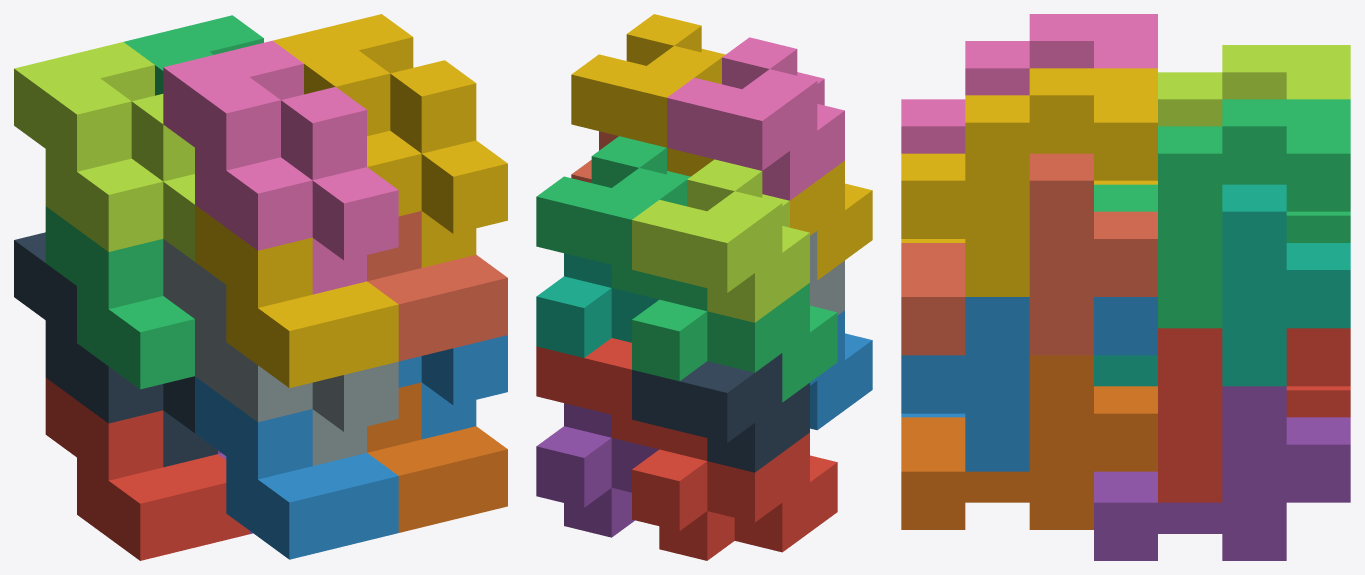
The model's file is tiling.obj.
3 views of the same model, side by side, from view 1: azimuth 30°, elevation 25°; view 2: azimuth 150°, elevation 25°; view 3: azimuth 270°, elevation 25° (orthographic). The views are drawn at different scales.
Visible parts, largest first — view 1: copy_2_domain_4, copy_2_domain_3, copy_2_domain_8, copy_1_domain_4, copy_1_domain_2, copy_1_domain_1, copy_2_domain_2, copy_1_domain_3, copy_2_domain_1, copy_1_domain_6, copy_1_domain_8, copy_2_domain_6 (+1 smaller); view 2: copy_2_domain_3, copy_1_domain_1, copy_2_domain_4, copy_1_domain_3, copy_2_domain_1, copy_2_domain_7, copy_2_domain_8, copy_1_domain_5, copy_1_domain_7, copy_2_domain_5, copy_1_domain_4, copy_1_domain_2 (+2 smaller); view 3: copy_2_domain_8, copy_2_domain_7, copy_1_domain_6, copy_1_domain_8, copy_1_domain_5, copy_1_domain_7, copy_2_domain_6, copy_2_domain_5, copy_2_domain_4, copy_2_domain_3, copy_1_domain_1, copy_1_domain_3 (+1 smaller).
Part boxes in pixels (left/top/right/bottom): copy_2_domain_4: left=163, top=40, right=398, bottom=294; copy_2_domain_3: left=14, top=42, right=194, bottom=261; copy_2_domain_8: left=273, top=14, right=507, bottom=267; copy_1_domain_4: left=195, top=205, right=398, bottom=388; copy_1_domain_2: left=195, top=376, right=398, bottom=559; copy_1_domain_1: left=45, top=378, right=249, bottom=560; copy_2_domain_2: left=163, top=239, right=398, bottom=465; copy_1_domain_3: left=45, top=206, right=194, bottom=389; copy_2_domain_1: left=14, top=232, right=217, bottom=467; copy_1_domain_6: left=367, top=382, right=507, bottom=532; copy_1_domain_8: left=367, top=211, right=507, bottom=361; copy_2_domain_6: left=398, top=335, right=507, bottom=439; copy_2_domain_3: left=632, top=159, right=809, bottom=322; copy_1_domain_1: left=632, top=426, right=837, bottom=560; copy_2_domain_4: left=667, top=37, right=844, bottom=200; copy_1_domain_3: left=632, top=276, right=837, bottom=402; copy_2_domain_1: left=632, top=353, right=809, bottom=472; copy_2_domain_7: left=536, top=136, right=690, bottom=299; copy_2_domain_8: left=571, top=14, right=725, bottom=176; copy_1_domain_5: left=536, top=403, right=658, bottom=537; copy_1_domain_7: left=536, top=253, right=658, bottom=357; copy_2_domain_5: left=536, top=338, right=659, bottom=449; copy_1_domain_4: left=694, top=154, right=872, bottom=280; copy_1_domain_2: left=810, top=310, right=872, bottom=430; copy_2_domain_8: left=901, top=68, right=1157, bottom=296; copy_2_domain_7: left=1094, top=99, right=1350, bottom=328; copy_1_domain_6: left=901, top=355, right=1157, bottom=529; copy_1_domain_8: left=901, top=153, right=1157, bottom=355; copy_1_domain_5: left=1094, top=386, right=1350, bottom=560; copy_1_domain_7: left=1094, top=184, right=1350, bottom=386; copy_2_domain_6: left=901, top=297, right=1157, bottom=471; copy_2_domain_5: left=1158, top=328, right=1350, bottom=502; copy_2_domain_4: left=901, top=14, right=1157, bottom=153; copy_2_domain_3: left=1158, top=45, right=1350, bottom=126; copy_1_domain_1: left=1286, top=386, right=1350, bottom=417; copy_1_domain_3: left=1286, top=211, right=1350, bottom=242.
Bounding box in the file's own units: 5 × 8 × 7.
